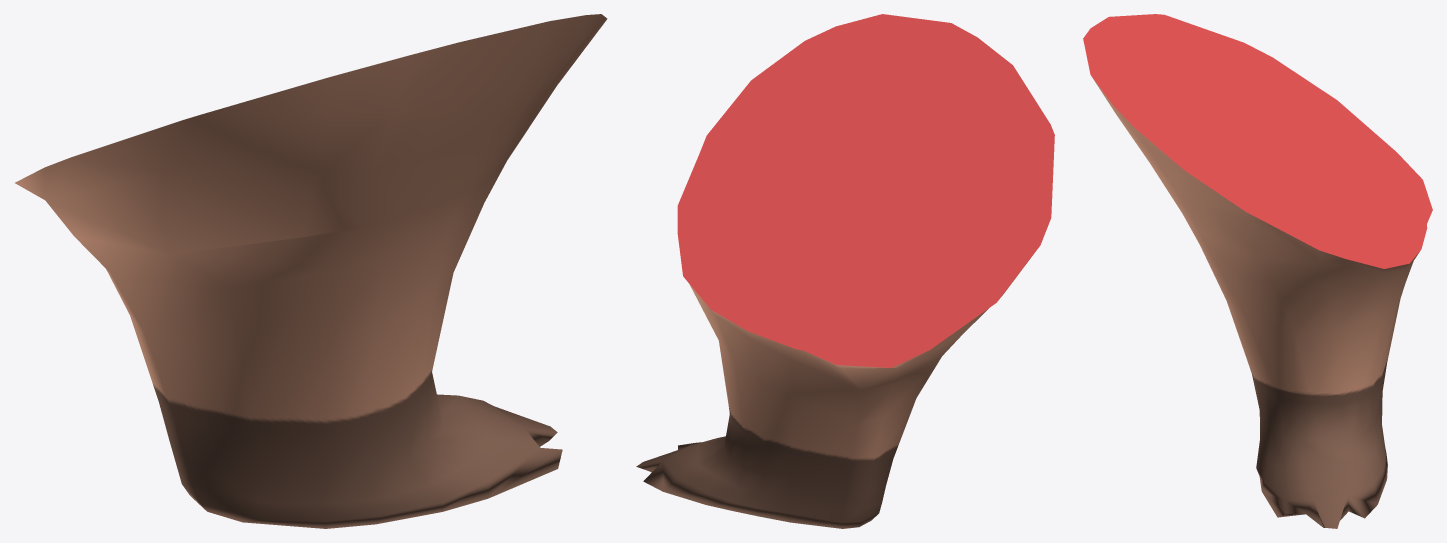
The model's file is rLeg.obj.
3 views of the same model, side by side, from view 1: azimuth 30°, elevation 25°; view 2: azimuth 150°, elevation 25°; view 3: azimuth 270°, elevation 25° (orthographic). The views are drawn at different scales.
Visible parts, largest first — view 1: Fox_Final_Low.001; view 2: Fox_Final_Low.001; view 3: Fox_Final_Low.001.
Part boxes in pixels (bbox=[...]): Fox_Final_Low.001: bbox=[15, 14, 607, 528]; Fox_Final_Low.001: bbox=[636, 14, 1054, 528]; Fox_Final_Low.001: bbox=[1083, 14, 1432, 528].
Bounding box in the file's own units: 1.64 × 1.68 × 1.33.
